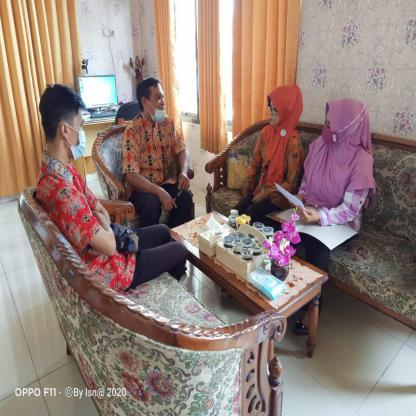kursi: (15, 182, 285, 416), (203, 117, 416, 272), (93, 124, 198, 199)
meja: (174, 211, 325, 353)
tv: (78, 73, 119, 105)
